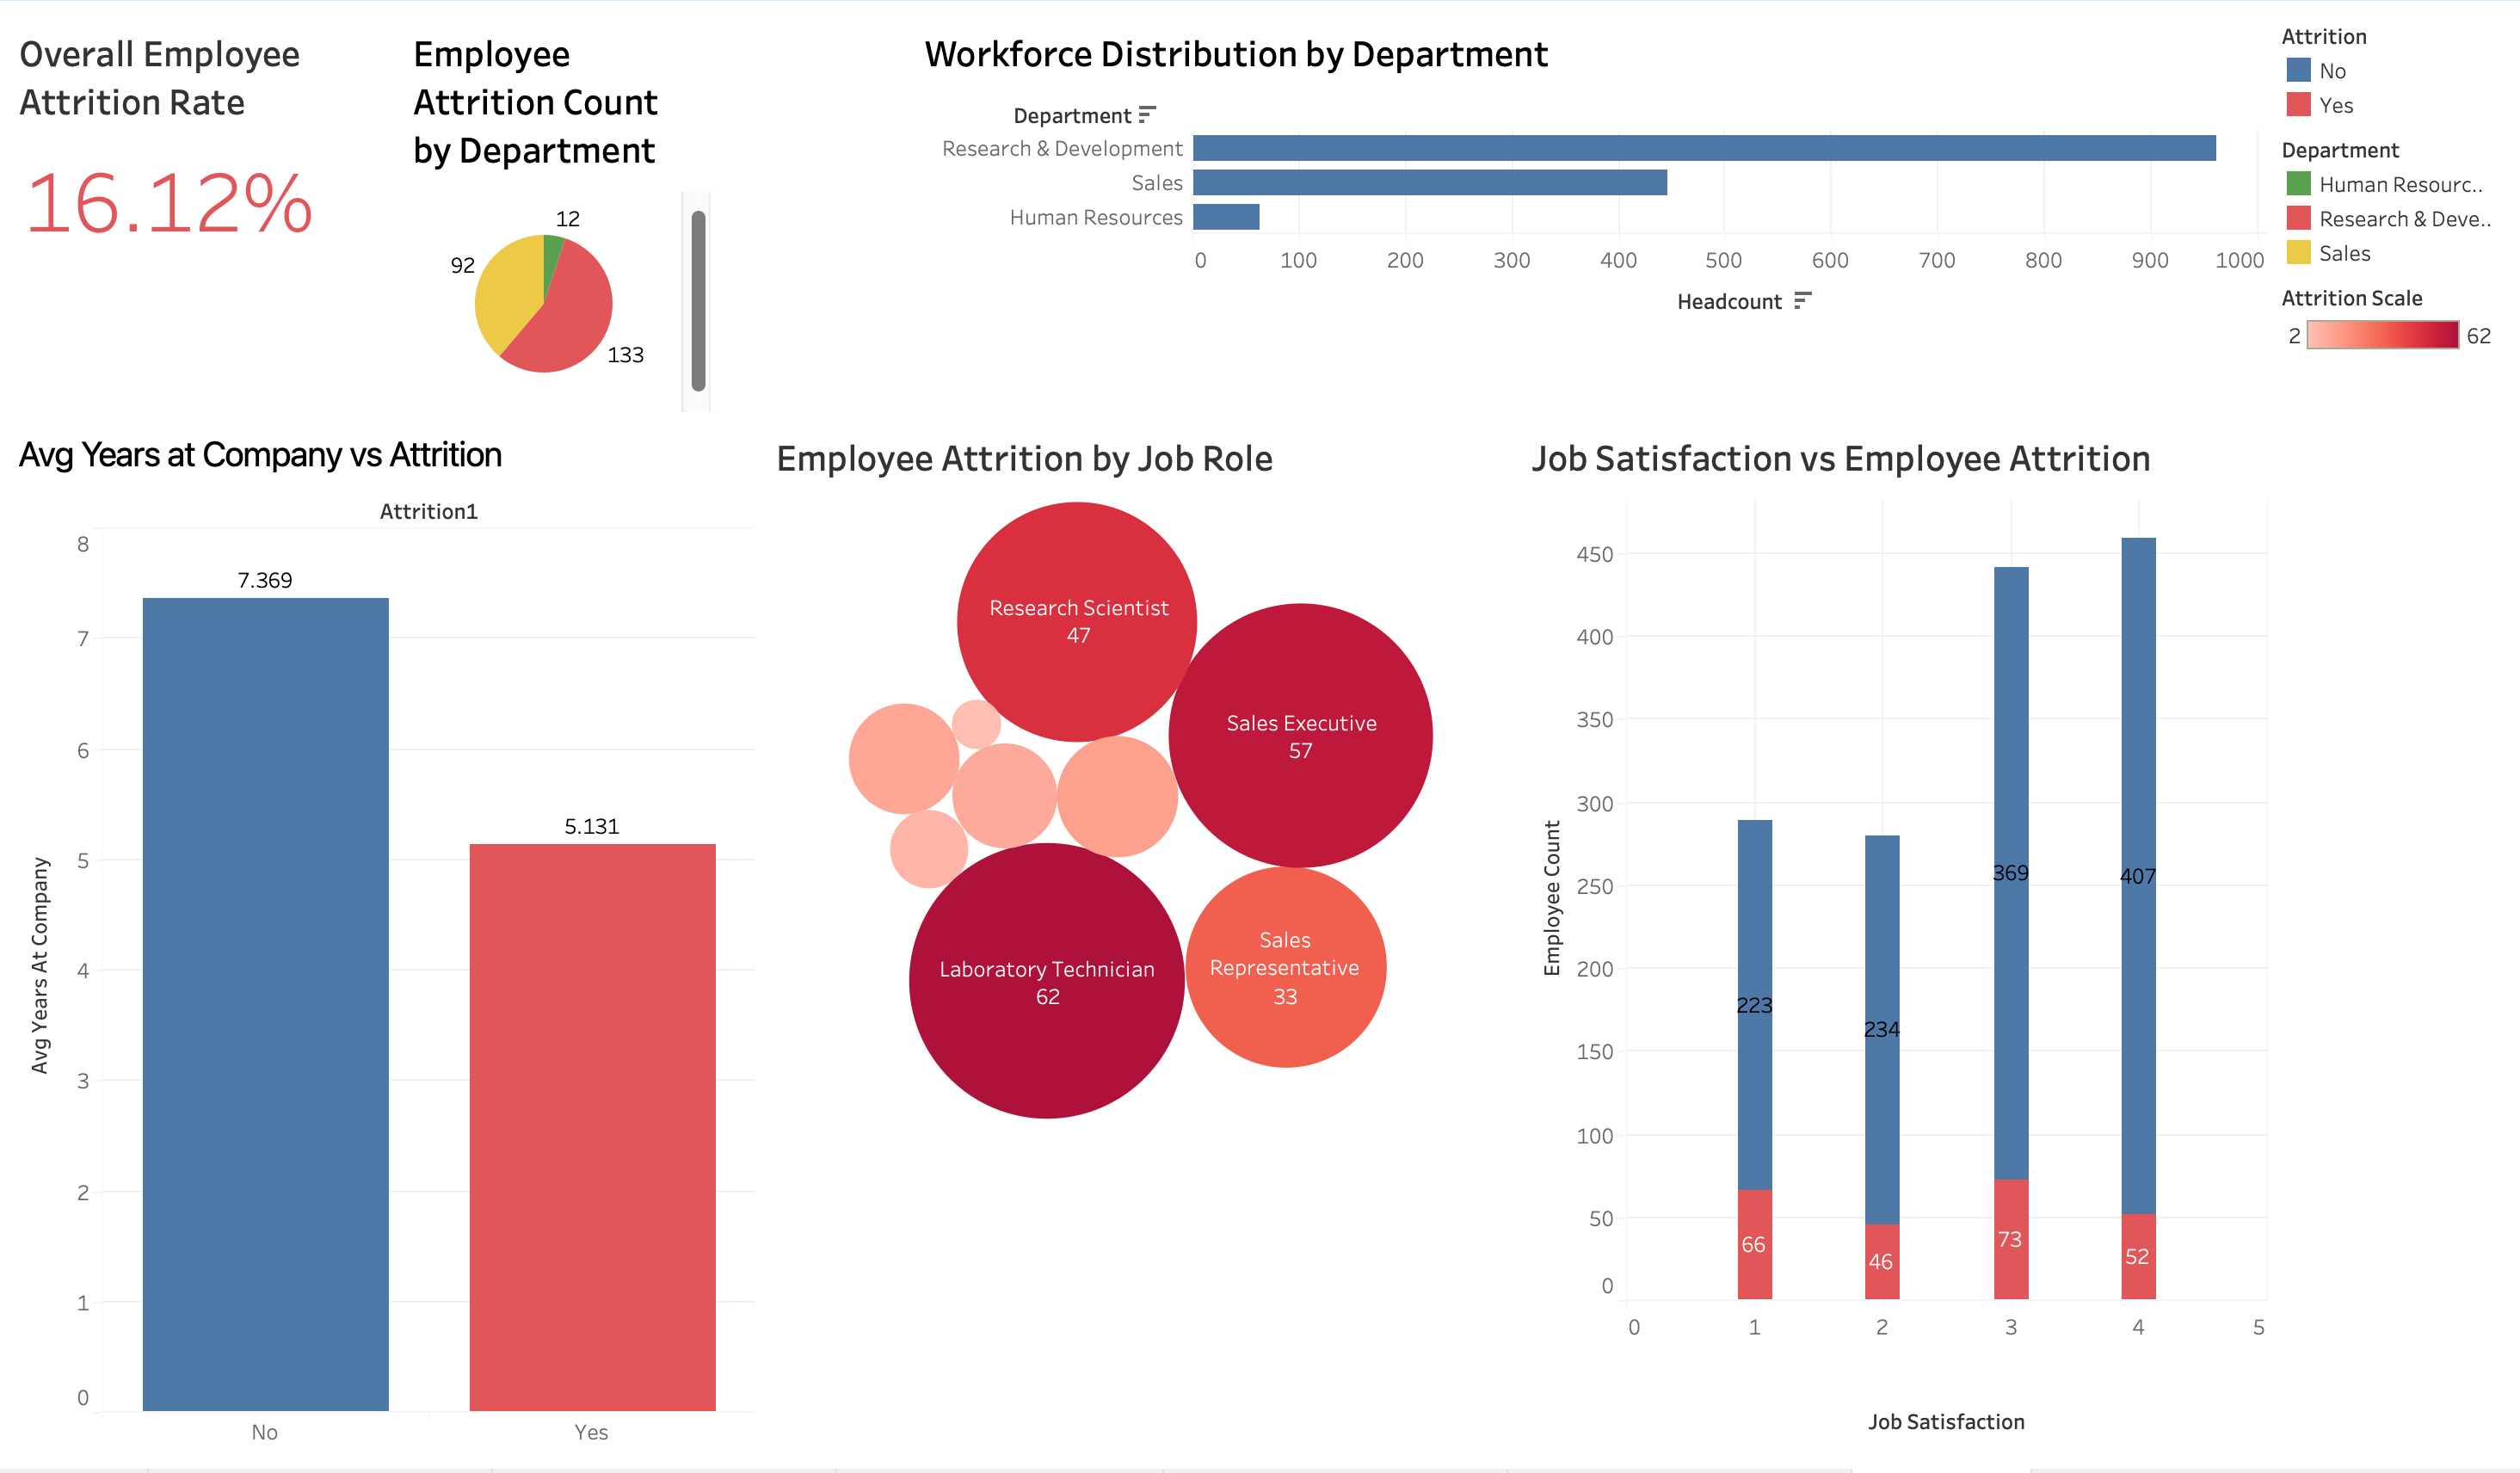

Layout of this report page (visuals, bound fields, positions):
{"tool":"tableau","page":{"name":"Dashboard 1","canvas":[1000,1000],"units":"permille","ordinal":0},"visuals":[{"type":"worksheet","title":"Attrition Rate","mark":"Automatic","box":[6.4,11.2,170.8,274.1]},{"type":"worksheet","title":"Employee Attrition by Department","mark":"Pie","box":[177.1,11.2,180.3,274.1]},{"type":"worksheet","title":"Workforce Distribution by Department","mark":"Automatic","rows":["Department"],"cols":["Headcount"],"box":[357.4,11.2,529,274.1]},{"type":"legend","title":"Attrition by Job Satisfaction Level","param":"[federated.1j4ptvt1lg6mnp1f2vzgm0jpoz9h].[none:Attrition (JobSatisfaction!Attrit","box":[886.4,11.2,107.2,92.3]},{"type":"legend","title":"Employee Attrition by Department","param":"[federated.1j4ptvt1lg6mnp1f2vzgm0jpoz9h].[none:Department (Attrition!Department)","box":[886.4,103.5,107.2,120.3]},{"type":"legend","title":"Employee Attrition by Job Role","param":"[federated.1j4ptvt1lg6mnp1f2vzgm0jpoz9h].[sum:Attrition (Attrition!JobRole):qk]","box":[886.4,223.8,107.2,90.9]},{"type":"worksheet","title":"Avg Years at Company vs Attrition","mark":"Bar","rows":["AvgYearsAtCompany"],"cols":["Attrition (Tenure!Attrition)"],"box":[6.4,285.3,293.4,703.5]},{"type":"worksheet","title":"Employee Attrition by Job Role","mark":"Circle","box":[299.7,285.3,293.4,703.5]},{"type":"worksheet","title":"Attrition by Job Satisfaction Level","mark":"Bar","rows":["EmployeeCount"],"cols":["JobSatisfaction"],"box":[593.1,285.3,293.4,703.5]}]}

Visuals, with their boxes on the dashboard's canvas, which has no fixed pixel size, in thousandths of its width and height (x1, y1, x2, y2). These are canvas units, not pixel positions in the 2520x1473 screenshot, which may show the page scaled, cropped or inside an application window:
"Attrition Rate" worksheet: (x1=6, y1=11, x2=177, y2=285)
"Employee Attrition by Department" worksheet (Pie marks): (x1=177, y1=11, x2=357, y2=285)
"Workforce Distribution by Department" worksheet: (x1=357, y1=11, x2=886, y2=285)
"Attrition by Job Satisfaction Level" legend: (x1=886, y1=11, x2=994, y2=104)
"Employee Attrition by Department" legend: (x1=886, y1=104, x2=994, y2=224)
"Employee Attrition by Job Role" legend: (x1=886, y1=224, x2=994, y2=315)
"Avg Years at Company vs Attrition" worksheet (Bar marks): (x1=6, y1=285, x2=300, y2=989)
"Employee Attrition by Job Role" worksheet (Circle marks): (x1=300, y1=285, x2=593, y2=989)
"Attrition by Job Satisfaction Level" worksheet (Bar marks): (x1=593, y1=285, x2=886, y2=989)
